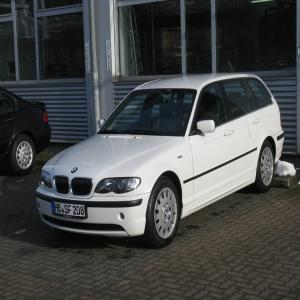Vehicle-registration-plate: (53, 203, 87, 218)
